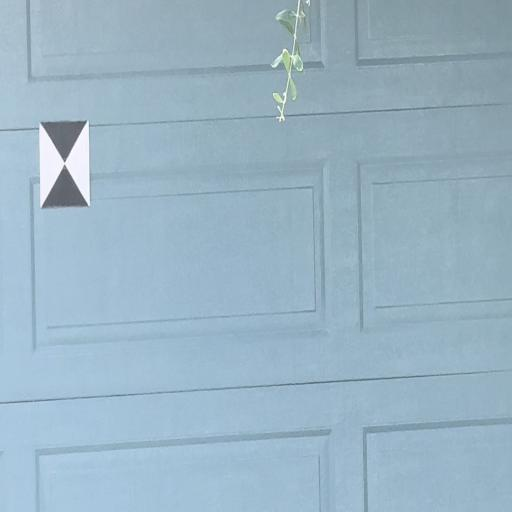target: (40, 122, 90, 206)
